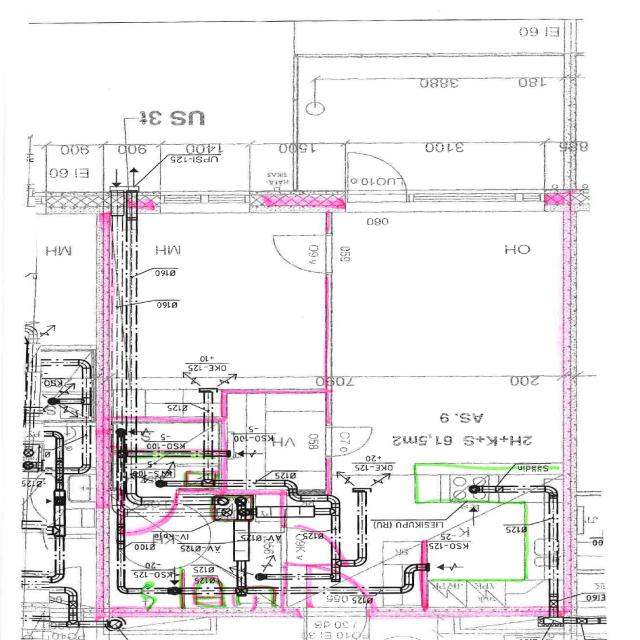door: (348, 149, 407, 212), (306, 566, 366, 616), (272, 235, 332, 273), (280, 527, 340, 564), (122, 490, 174, 531), (306, 607, 366, 640), (325, 427, 372, 456)
